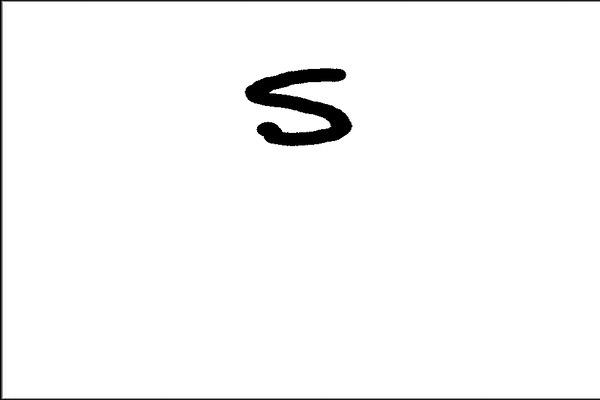S: (236, 61, 359, 151)
